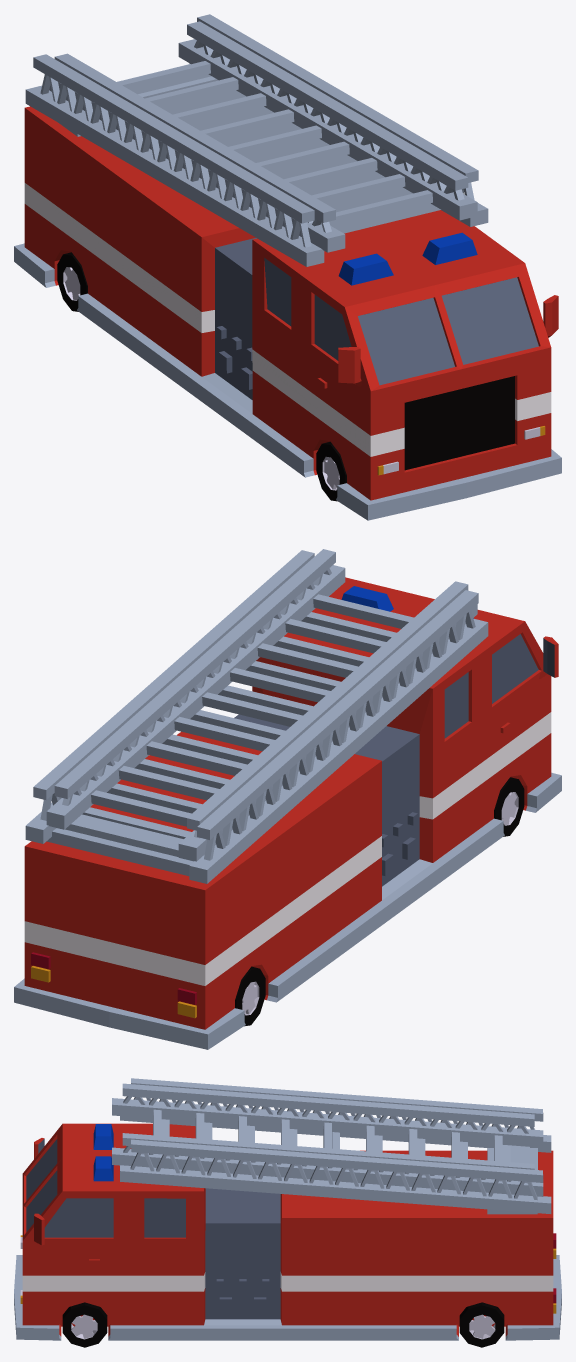
File: Firetruck.gltf
The picture shows the model from 3 angles, top to bottom: view 1: azimuth 30°, elevation 25°; view 2: azimuth 150°, elevation 25°; view 3: azimuth 270°, elevation 25°; orthographic projection. The views are drawn at different scales.
Parts seen in each view (by area): view 1: Firetruck, Firetruck_wheel_front_right, Firetruck_wheel_rear_right; view 2: Firetruck, Firetruck_wheel_rear_right, Firetruck_wheel_front_right; view 3: Firetruck, Firetruck_wheel_front_left, Firetruck_wheel_rear_left.
Boxes of the visible parts, x1,y1,x2,y2 form: Firetruck: [14, 14, 561, 520]; Firetruck_wheel_front_right: [316, 441, 346, 501]; Firetruck_wheel_rear_right: [57, 252, 87, 311]; Firetruck: [14, 549, 561, 1049]; Firetruck_wheel_rear_right: [235, 966, 265, 1026]; Firetruck_wheel_front_right: [494, 777, 524, 836]; Firetruck: [14, 1078, 561, 1340]; Firetruck_wheel_front_left: [62, 1302, 107, 1347]; Firetruck_wheel_rear_left: [459, 1302, 504, 1347].
Size of the model in its own units: 341 by 393 by 960.
